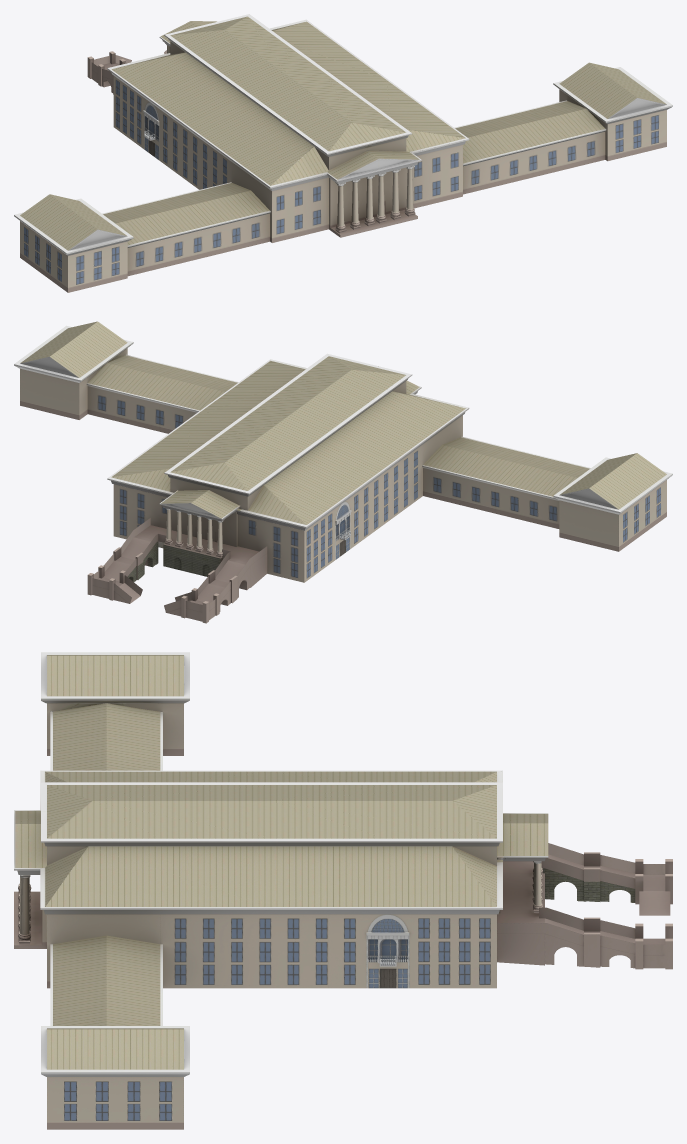
3 renders of one model, top to bottom at view 1: azimuth 30°, elevation 25°; view 2: azimuth 150°, elevation 25°; view 3: azimuth 270°, elevation 25°, orthographic. The views are drawn at different scales.
Parts seen in each view (by area): view 1: dk_st; view 2: dk_st; view 3: dk_st.
Part boxes in pixels (bbox=[...]): dk_st: bbox=[14, 14, 672, 292]; dk_st: bbox=[14, 321, 672, 623]; dk_st: bbox=[14, 652, 672, 1129].
Bounding box in the file's own units: 41.45 × 5.85 × 27.49.
Materials: 1 (1 with a texture image).
